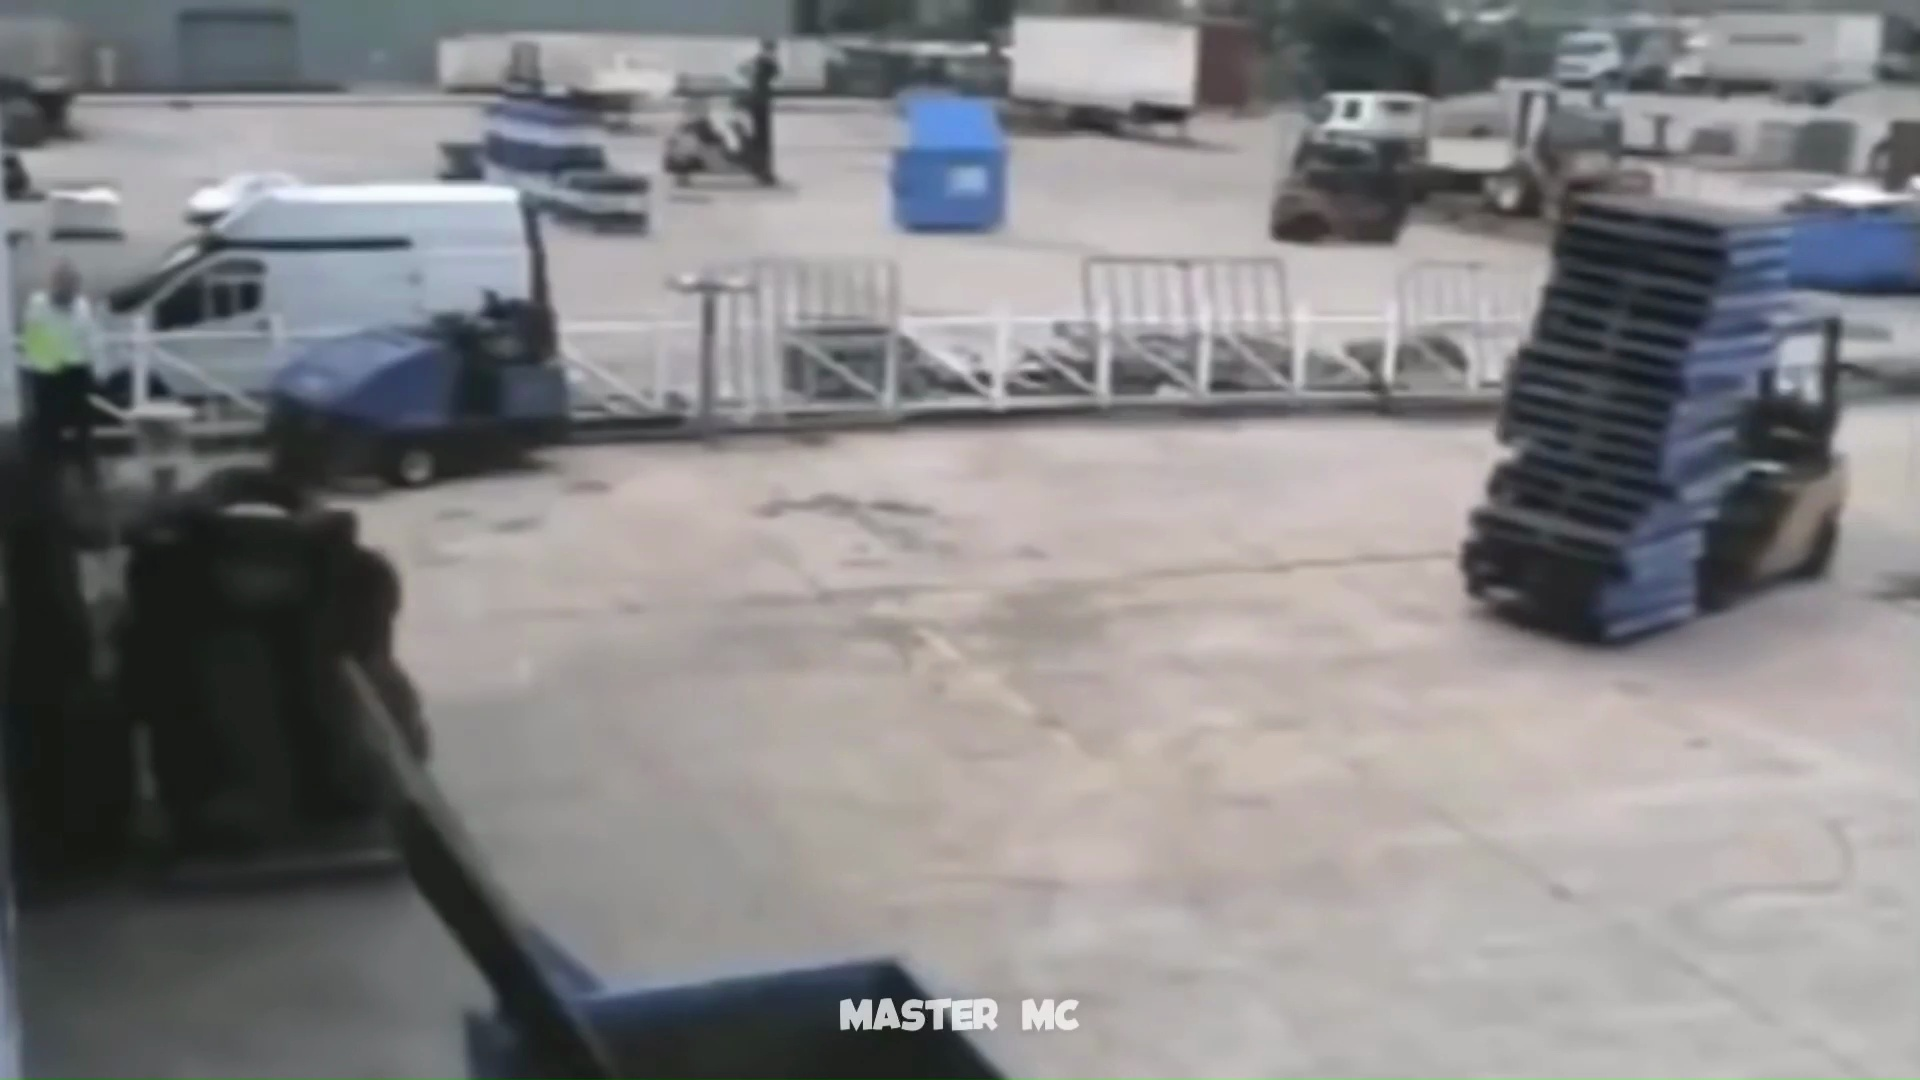forklift: (1448, 196, 1850, 651), (4, 451, 411, 891)
